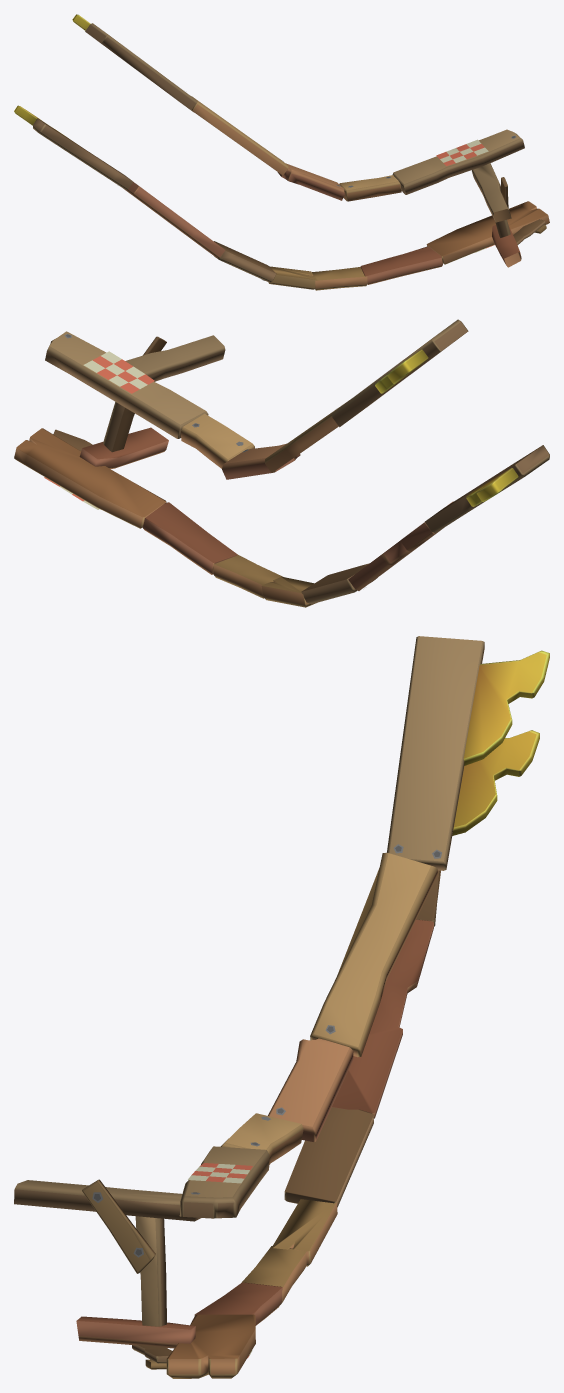
Rendered from SlideWoodFrame.fbx.
3 renders of one model, top to bottom at view 1: azimuth 30°, elevation 25°; view 2: azimuth 150°, elevation 25°; view 3: azimuth 270°, elevation 25°, orthographic. The views are drawn at different scales.
Visible parts, largest first — view 1: SlideWoodFrame; view 2: SlideWoodFrame; view 3: SlideWoodFrame.
Part boxes in pixels (left/top/right/bottom): SlideWoodFrame: left=14, top=14, right=549, bottom=290; SlideWoodFrame: left=14, top=319, right=549, bottom=607; SlideWoodFrame: left=14, top=636, right=549, bottom=1378.
Size of the model in its own units: 1109 by 646 by 648.
